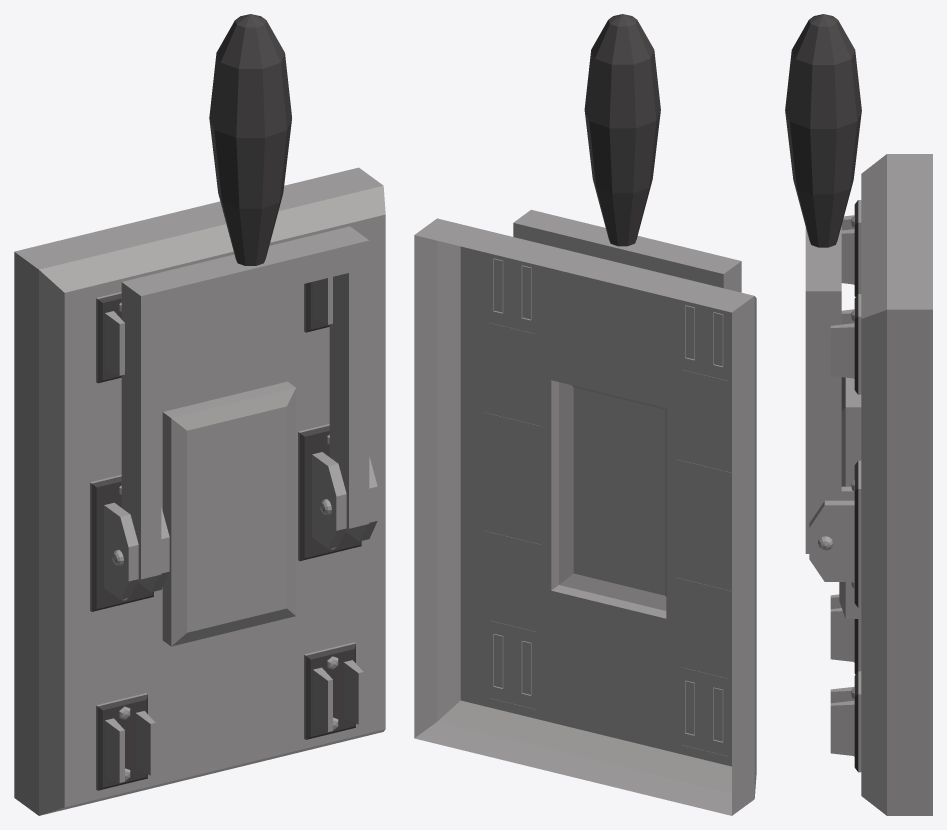
Rendered from WallSwitch_6.fbx.
The picture shows the model from 3 angles, left to right: view 1: azimuth 30°, elevation 25°; view 2: azimuth 150°, elevation 25°; view 3: azimuth 270°, elevation 25°; orthographic projection. The views are drawn at different scales.
Visible parts, largest first — view 1: WallSwitch_6_Casing, WallSwitch_6_Handle; view 2: WallSwitch_6_Casing, WallSwitch_6_Handle; view 3: WallSwitch_6_Casing, WallSwitch_6_Handle.
Part boxes in pixels (x1,y1,x2,y2): WallSwitch_6_Casing: (14,167,385,815); WallSwitch_6_Handle: (121,14,369,579); WallSwitch_6_Casing: (414,218,756,815); WallSwitch_6_Handle: (513,14,741,292); WallSwitch_6_Casing: (809,154,932,815); WallSwitch_6_Handle: (785,14,861,553).
Size of the model in its own units: 35.66 by 77.48 by 14.29.
